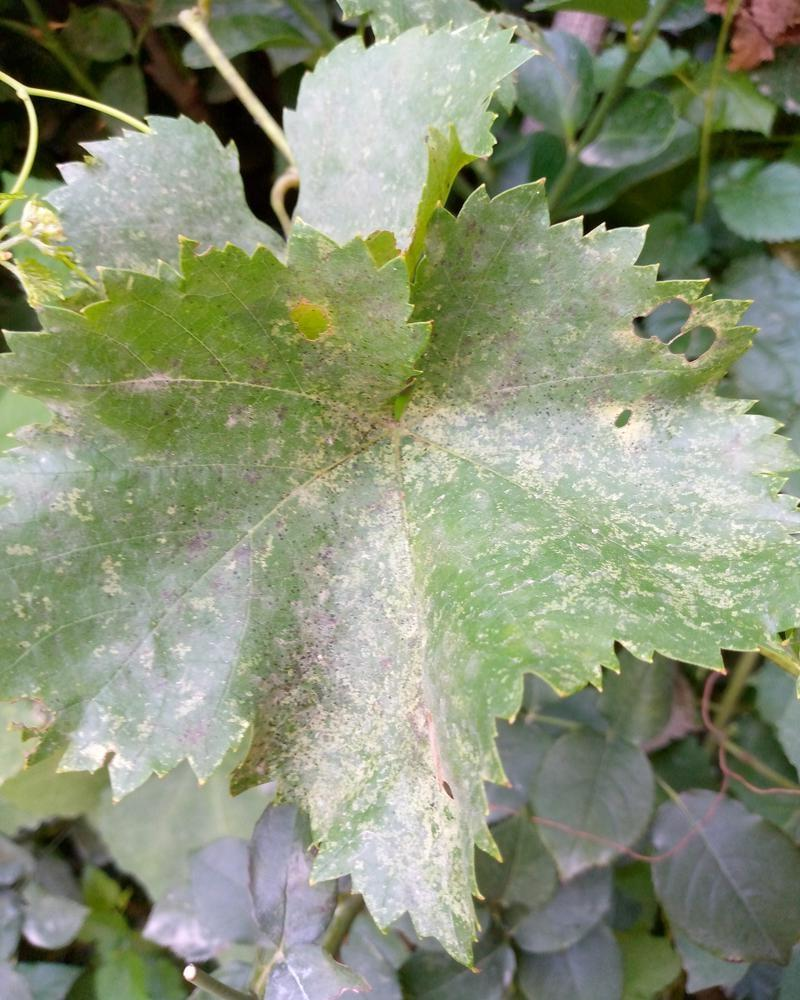Powdery-Mildew: (245, 538, 459, 922), (425, 381, 791, 554), (59, 567, 249, 809), (458, 499, 646, 652), (0, 399, 108, 556), (322, 370, 425, 527), (652, 547, 772, 631), (580, 226, 643, 289), (263, 295, 326, 358), (130, 349, 193, 412), (226, 405, 289, 468)
